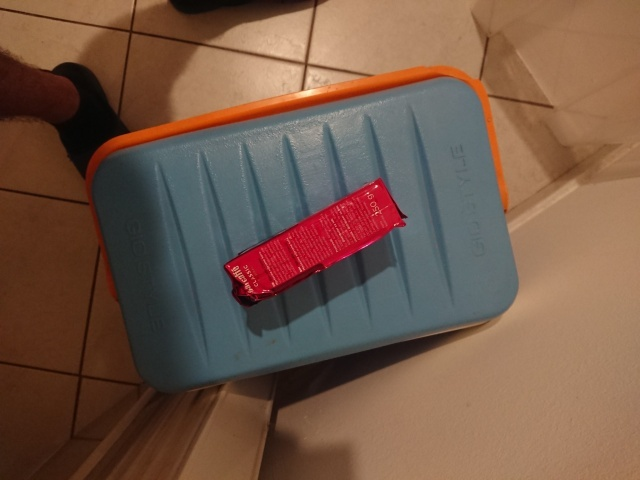Barcaffe Classic Original 225g: (221, 176, 410, 310)
